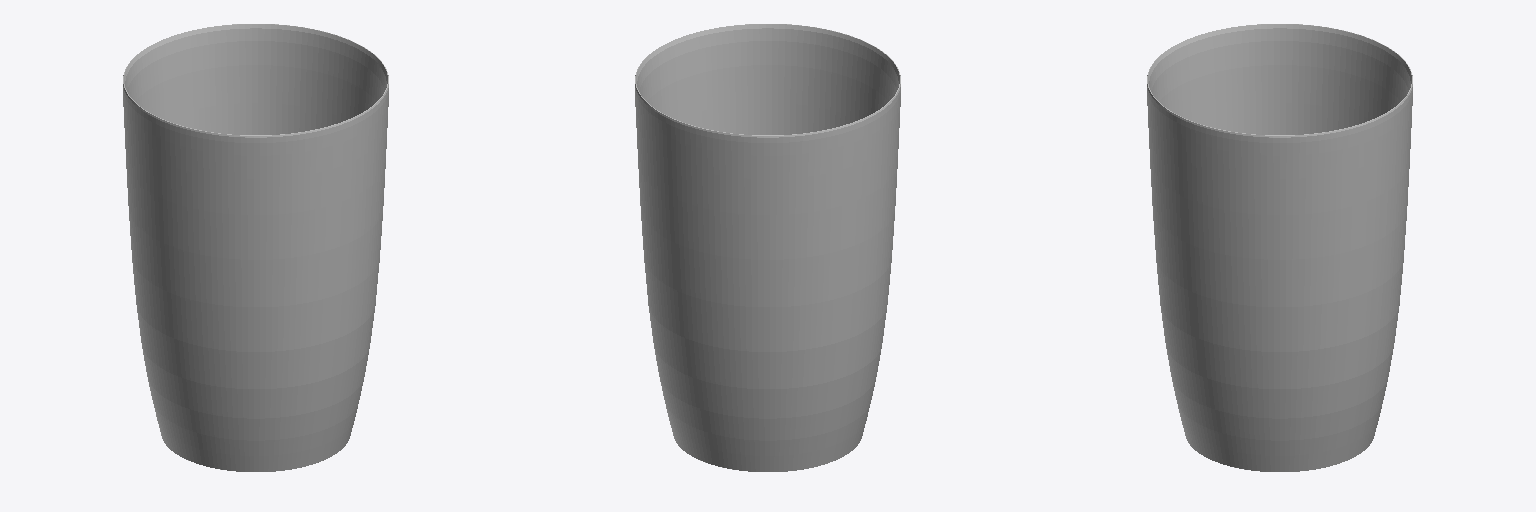
The model's file is Glass.obj.
3 renders of one model, left to right at view 1: azimuth 30°, elevation 25°; view 2: azimuth 150°, elevation 25°; view 3: azimuth 270°, elevation 25°, orthographic.
Parts seen in each view (by area): view 1: Cylinder_Cylinder.001; view 2: Cylinder_Cylinder.001; view 3: Cylinder_Cylinder.001.
Part boxes in pixels (x1,y1,x2,y2): Cylinder_Cylinder.001: (123, 24, 388, 471); Cylinder_Cylinder.001: (635, 24, 900, 471); Cylinder_Cylinder.001: (1147, 24, 1412, 471).
Size of the model in its own units: 2.79 by 4.07 by 2.79.